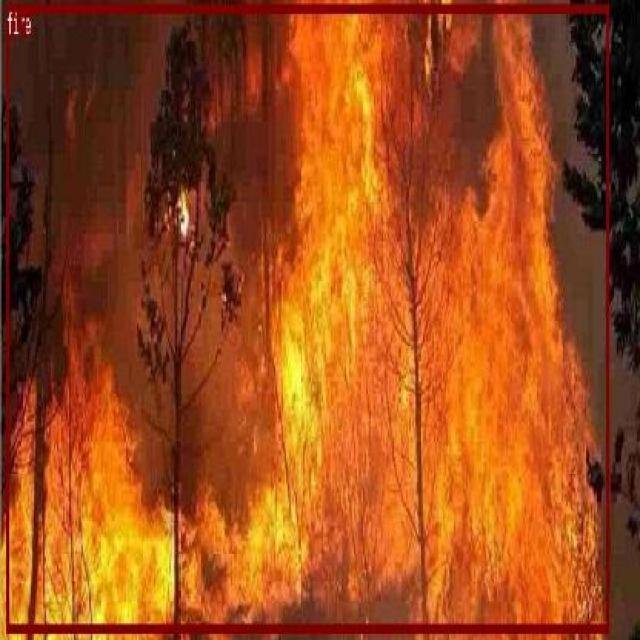Fire: (6, 2, 608, 632)
